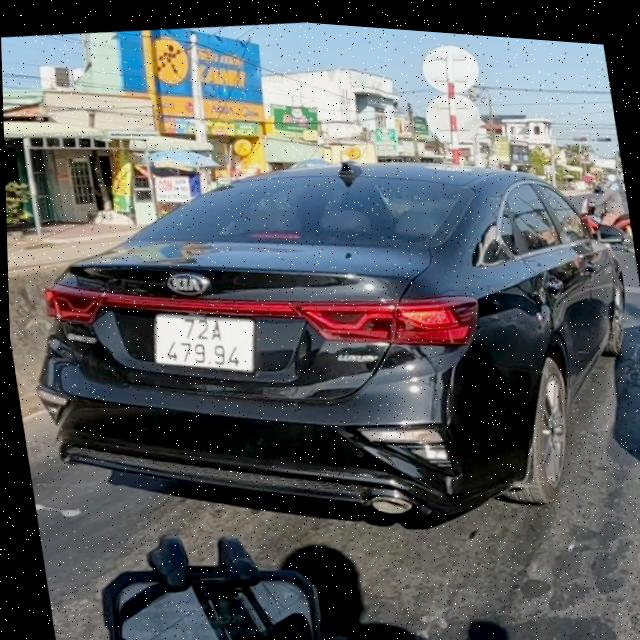car: (3, 100, 640, 590)
plate: (146, 297, 270, 392)
